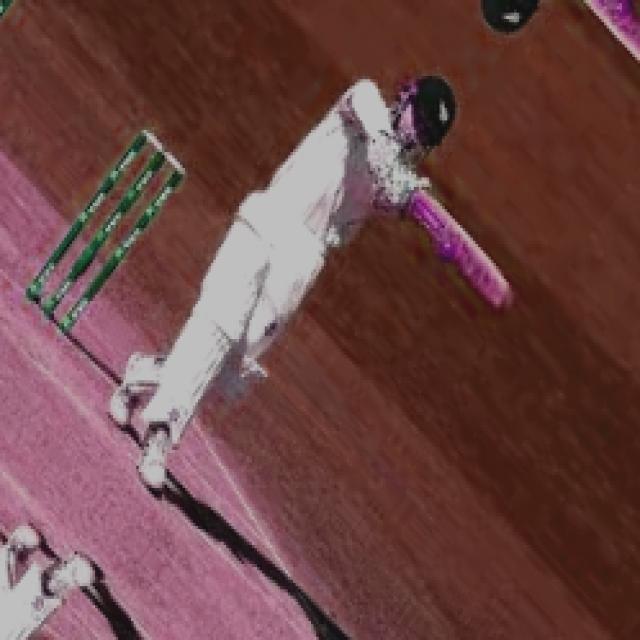toe: (479, 274, 525, 320)
